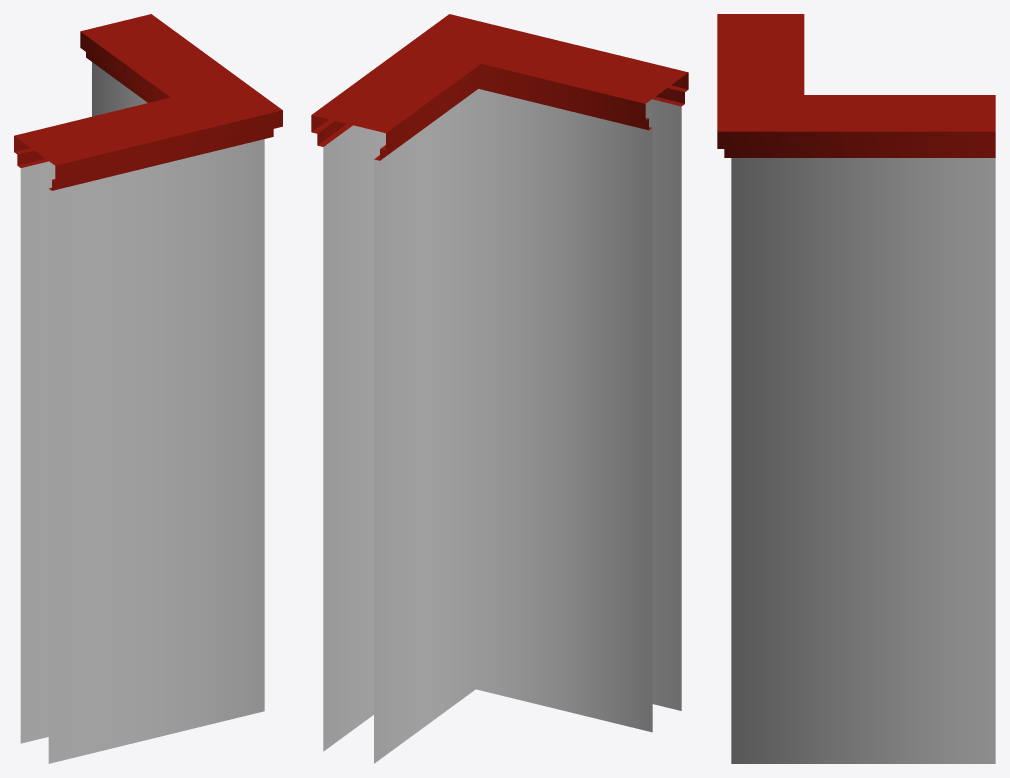
Rendered from SM_Wall_Corner_1x3_01.fbx.
3 renders of one model, left to right at view 1: azimuth 30°, elevation 25°; view 2: azimuth 150°, elevation 25°; view 3: azimuth 270°, elevation 25°, orthographic. The views are drawn at different scales.
Parts seen in each view (by area): view 1: SM_Wall_Corner_1x3_01; view 2: SM_Wall_Corner_1x3_01; view 3: SM_Wall_Corner_1x3_01.
Boxes of the visible parts, x1,y1,x2,y2 form: SM_Wall_Corner_1x3_01: (14, 14, 282, 763); SM_Wall_Corner_1x3_01: (311, 14, 688, 763); SM_Wall_Corner_1x3_01: (717, 14, 995, 763).
Bounding box in the file's own units: 46.65 × 118 × 46.65.
